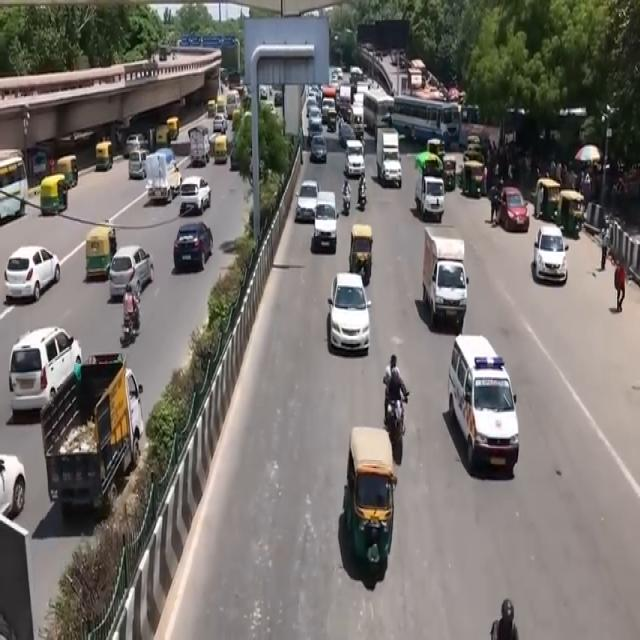BUS: (391, 94, 461, 148)
MOTORCYCLE: (384, 396, 404, 466)
TRUCK: (44, 360, 141, 517), (424, 228, 468, 332), (147, 152, 182, 204)
